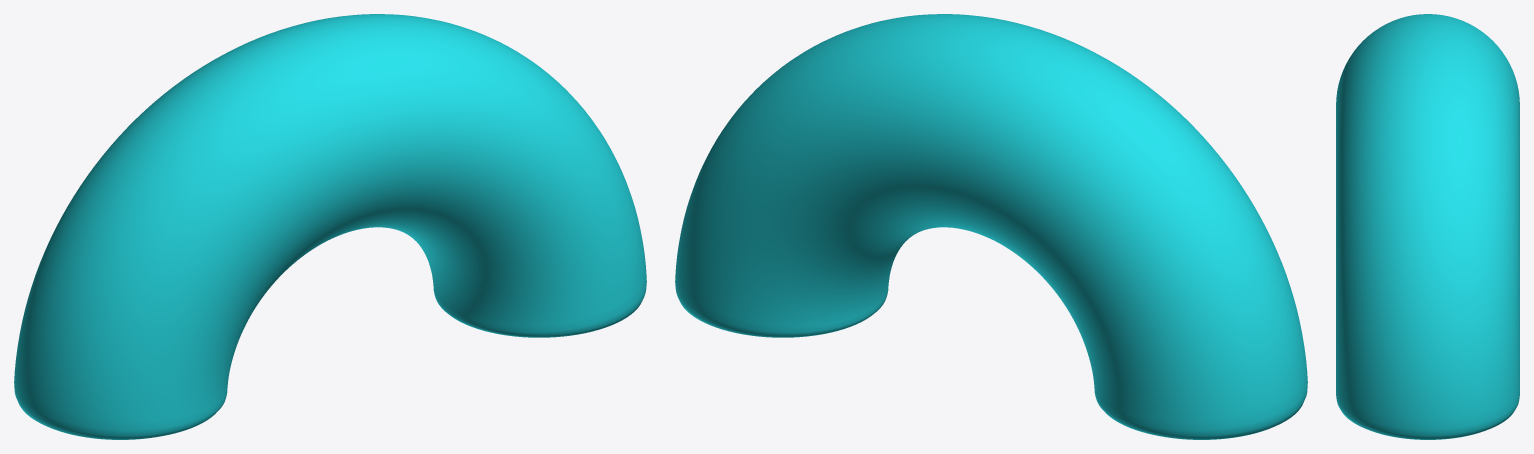
Rendered from demo.gltf.
3 renders of one model, left to right at view 1: azimuth 30°, elevation 25°; view 2: azimuth 150°, elevation 25°; view 3: azimuth 270°, elevation 25°, orthographic. The views are drawn at different scales.
Parts seen in each view (by area): view 1: 圆柱体; view 2: 圆柱体; view 3: 圆柱体.
Boxes of the visible parts, x1=… form: 圆柱体: x1=14, y1=14, x2=646, y2=439; 圆柱体: x1=675, y1=14, x2=1307, y2=439; 圆柱体: x1=1336, y1=14, x2=1519, y2=439.
Bounding box in the file's own units: 327 × 164 × 100.
